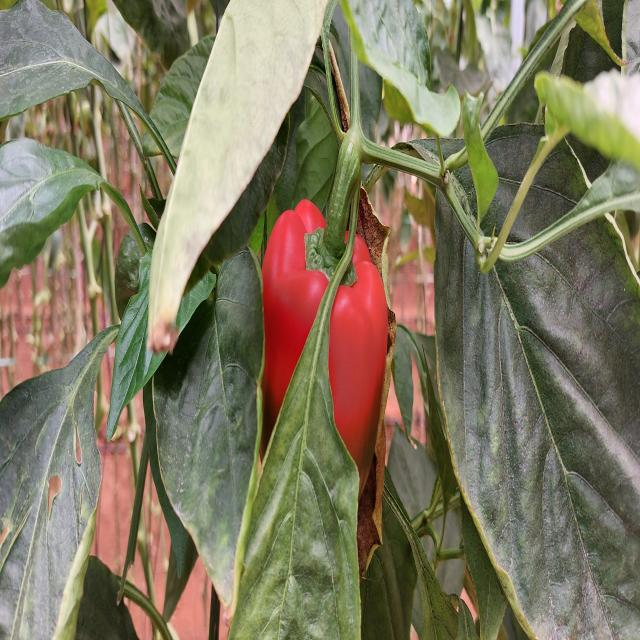Red-Ready-to-Harvest: (254, 197, 397, 539)
